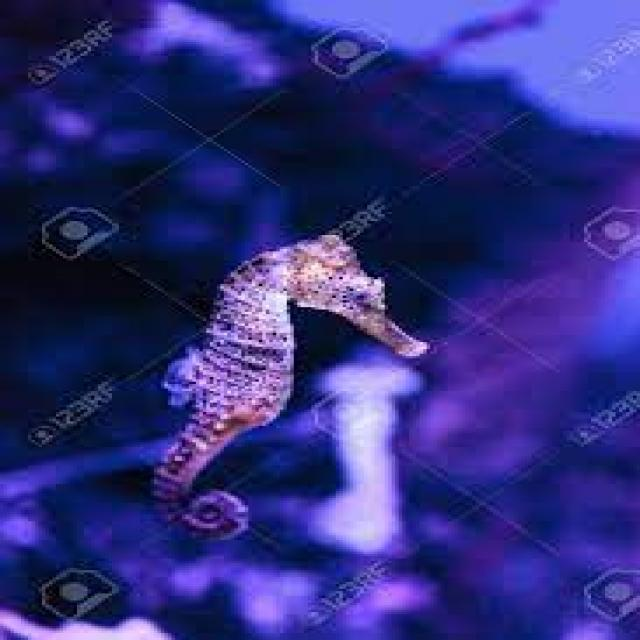SeaHorse: (150, 226, 430, 540)
